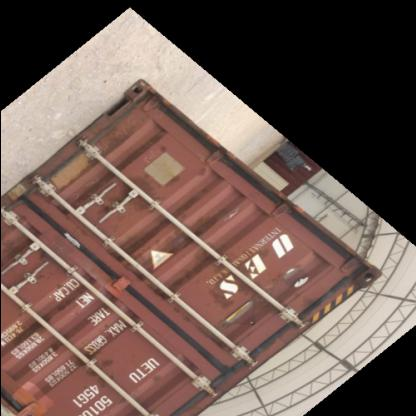Damage: (215, 258, 314, 330), (66, 172, 136, 237), (135, 238, 189, 273)
